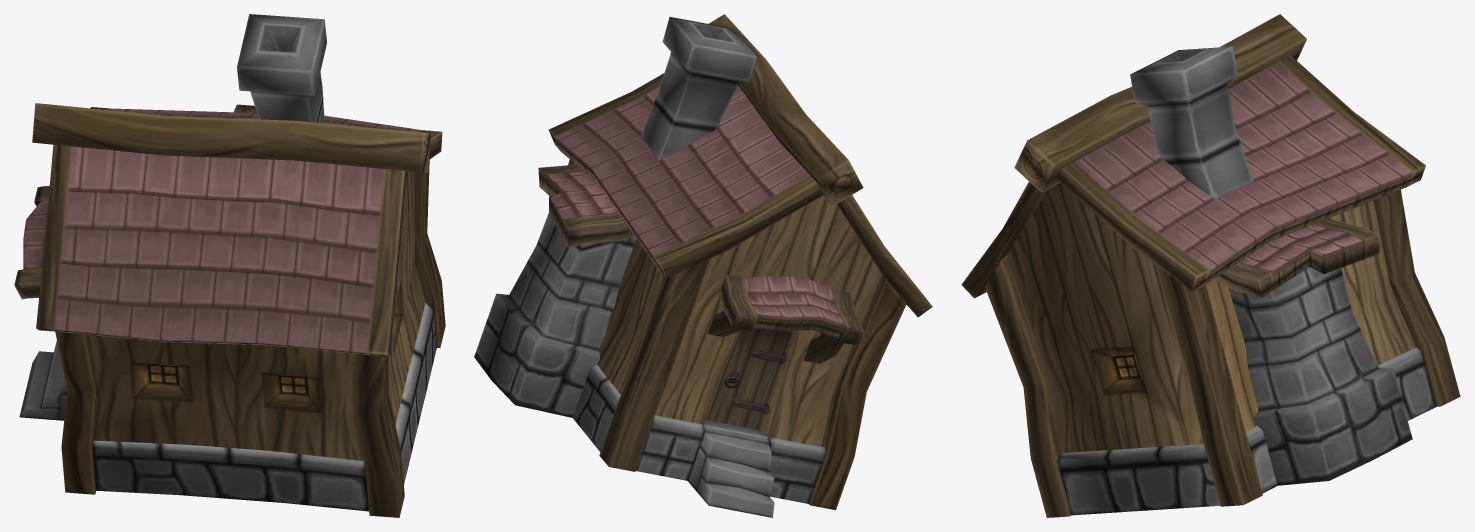
Rendered from house@card.fbx.
The picture shows the model from 3 angles, left to right: view 1: azimuth 30°, elevation 25°; view 2: azimuth 150°, elevation 25°; view 3: azimuth 270°, elevation 25°; orthographic projection. The views are drawn at different scales.
Visible parts, largest first — view 1: Mesh; view 2: Mesh; view 3: Mesh.
Part boxes in pixels (<box>): Mesh: <box>14,14,445,517</box>; Mesh: <box>474,14,932,517</box>; Mesh: <box>961,14,1460,517</box>.
Size of the model in its own units: 5.09 by 5 by 5.09.
